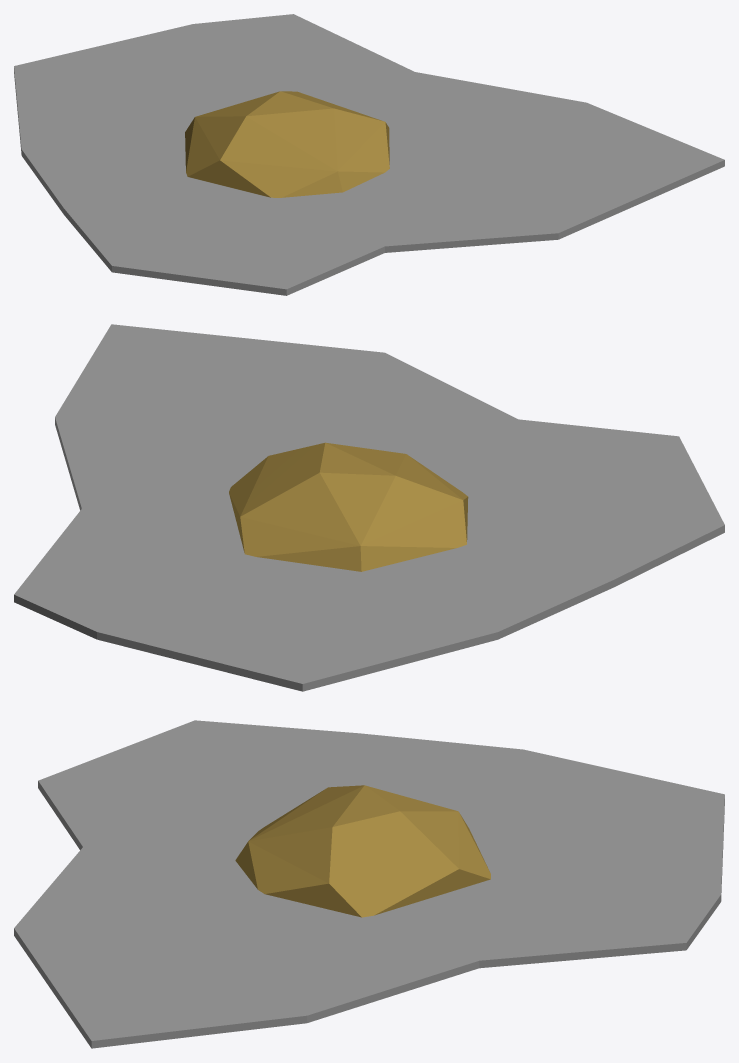
File: food-Egg_Fried.glb
3 views of the same model, one above another, from view 1: azimuth 30°, elevation 25°; view 2: azimuth 150°, elevation 25°; view 3: azimuth 270°, elevation 25° (orthographic). The views are drawn at different scales.
Visible parts, largest first — view 1: Egg_Fried; view 2: Egg_Fried; view 3: Egg_Fried.
Boxes of the visible parts, x1,y1,x2,y2 form: Egg_Fried: (14,14,724,295); Egg_Fried: (14,324,724,691); Egg_Fried: (14,720,724,1048).
Size of the model in its own units: 1.19 by 0.1071 by 1.12.
